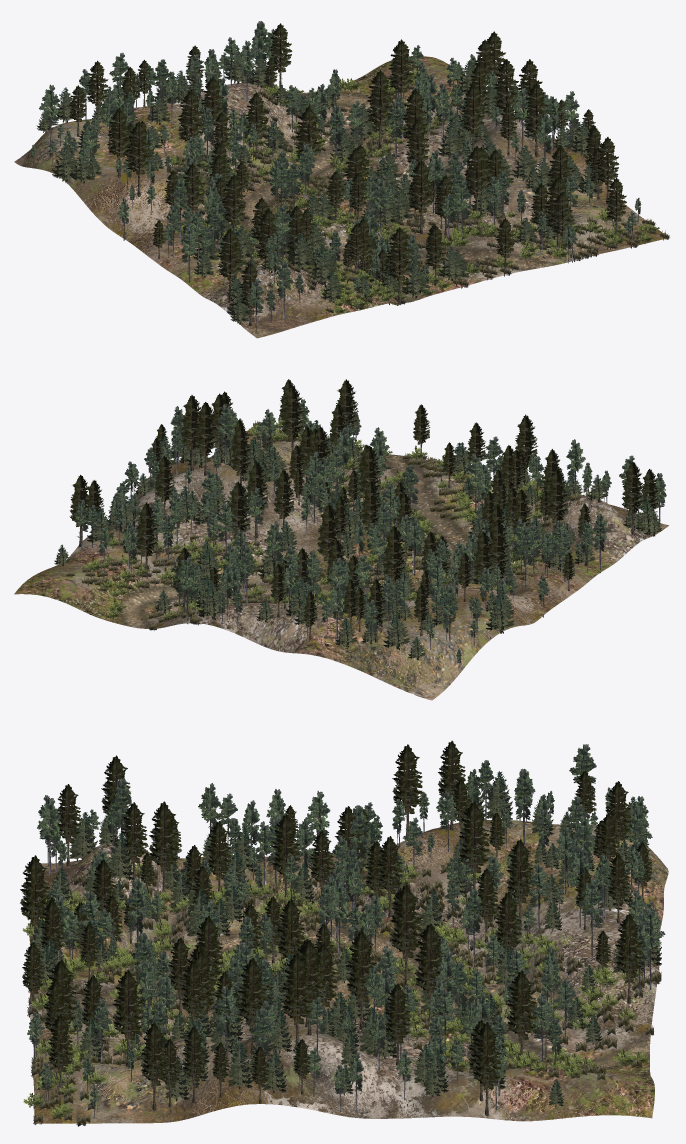
The model's file is a_forest_3_with_a_road_at_night_for_game_opt.glb.
The picture shows the model from 3 angles, top to bottom: view 1: azimuth 30°, elevation 25°; view 2: azimuth 150°, elevation 25°; view 3: azimuth 270°, elevation 25°; orthographic projection. The views are drawn at different scales.
Visible parts, largest first — view 1: Plane.002, 05ade0e713892be558511d706fa6c547-no-bg-preview (carve.photos (×5), Cylinder.058, Cylinder.034, Cylinder.007, Cylinder.049, Cylinder.070, Cylinder.004, Cylinder.026, Cylinder.047, Cylinder.059, Cylinder.073 (+33 smaller); view 2: Plane.002, 05ade0e713892be558511d706fa6c547-no-bg-preview (carve.photos (×4), Cylinder.073, Cylinder.071, Cylinder.026, Cylinder.070, Cylinder.004, Cylinder.012, Cylinder.047, Cylinder.058, Cylinder.077, Cylinder.007 (+21 smaller); view 3: Plane.002, 05ade0e713892be558511d706fa6c547-no-bg-preview (carve.photos (×21), Cylinder.047, Cylinder.077, Cylinder.026, Cylinder.071, Cylinder.012, Cylinder.007, Cylinder.070, Cylinder.085, Cylinder.034, Cylinder.058 (+45 smaller).
Part boxes in pixels (x1,y1,x2,y2): Plane.002: (14, 56, 667, 338); 05ade0e713892be558511d706fa6c547-no-bg-preview (carve.photos (×5): (39, 40, 471, 259); Cylinder.058: (366, 70, 393, 149); Cylinder.034: (386, 227, 412, 303); Cylinder.007: (126, 121, 151, 196); Cylinder.049: (408, 160, 433, 234); Cylinder.070: (388, 39, 413, 103); Cylinder.004: (217, 228, 242, 301); Cylinder.026: (177, 89, 204, 141); Cylinder.047: (295, 106, 321, 183); Cylinder.059: (464, 146, 488, 213); Cylinder.073: (494, 59, 519, 130); Plane.002: (14, 426, 668, 700); 05ade0e713892be558511d706fa6c547-no-bg-preview (carve.photos (×4): (176, 439, 585, 648); Cylinder.073: (194, 402, 217, 475); Cylinder.071: (281, 385, 304, 459); Cylinder.026: (382, 526, 406, 589); Cylinder.070: (136, 502, 158, 577); Cylinder.004: (622, 461, 644, 535); Cylinder.012: (545, 469, 568, 538); Cylinder.047: (317, 504, 341, 577); Cylinder.058: (227, 481, 251, 549); Cylinder.077: (180, 395, 201, 470); Cylinder.007: (488, 520, 510, 594); Plane.002: (29, 820, 668, 1123); 05ade0e713892be558511d706fa6c547-no-bg-preview (carve.photos (×21): (37, 744, 665, 1063); Cylinder.047: (390, 884, 422, 985); Cylinder.077: (281, 952, 312, 1045); Cylinder.026: (458, 801, 491, 889); Cylinder.071: (113, 969, 145, 1066); Cylinder.012: (149, 801, 180, 895); Cylinder.007: (392, 744, 424, 841); Cylinder.070: (506, 970, 538, 1055); Cylinder.085: (472, 1022, 503, 1116); Cylinder.034: (20, 855, 50, 937); Cylinder.058: (414, 923, 445, 1020).
Size of the model in its own units: 9.96 by 2.78 by 9.74.
Materials: 3 (3 with a texture image).
